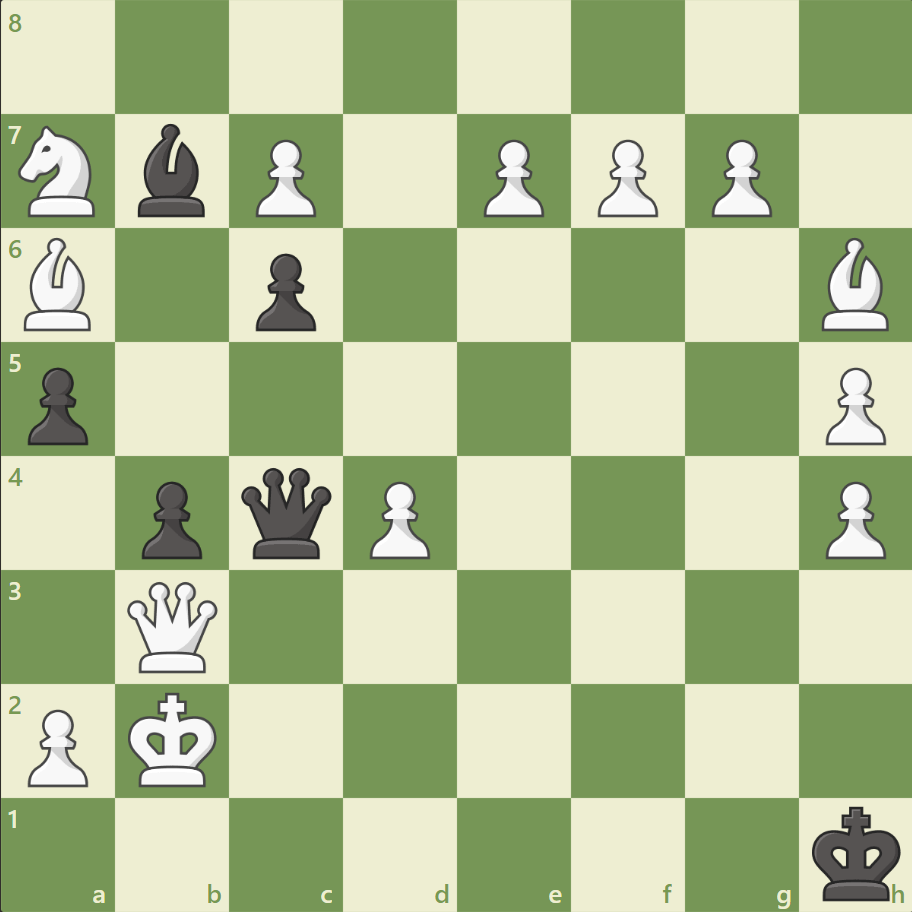B: (17, 233, 101, 336), (812, 233, 896, 336)
K: (124, 685, 224, 793)
N: (11, 121, 108, 223)
P: (247, 132, 322, 223), (474, 132, 549, 223), (701, 132, 776, 223), (20, 700, 95, 791), (588, 132, 662, 223), (815, 359, 889, 450), (361, 473, 435, 564), (815, 473, 889, 564)
Q: (124, 576, 223, 676)
b: (131, 120, 215, 222)
k: (806, 798, 906, 906)
p: (247, 246, 322, 337), (20, 359, 95, 450), (133, 473, 208, 564)
q: (237, 463, 336, 562)
